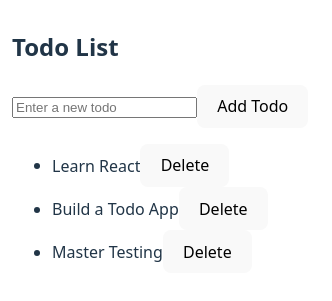
Test: TodoList Component › adds a new todo
This screenshot has width=332, height=301.
Type "New Todo" into the field with test id "todo-input" at (104, 108), box [12,97,197,118]
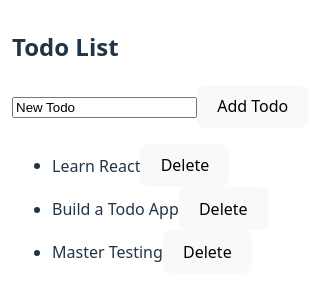
Submit the form with test id "todo-input", box [12,84,308,128]
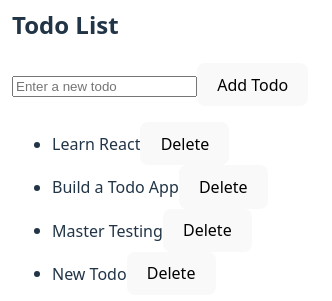
Expected: the text "New Todo" is shown, [52,262,127,284]
